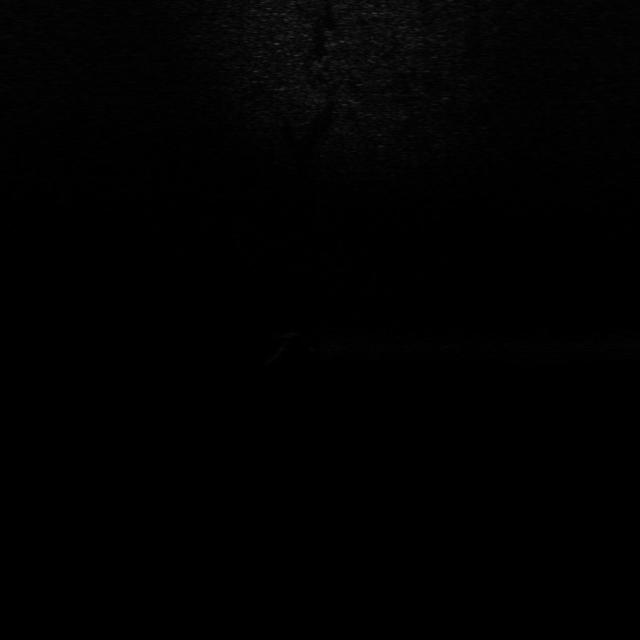human body: (266, 326, 336, 368)
